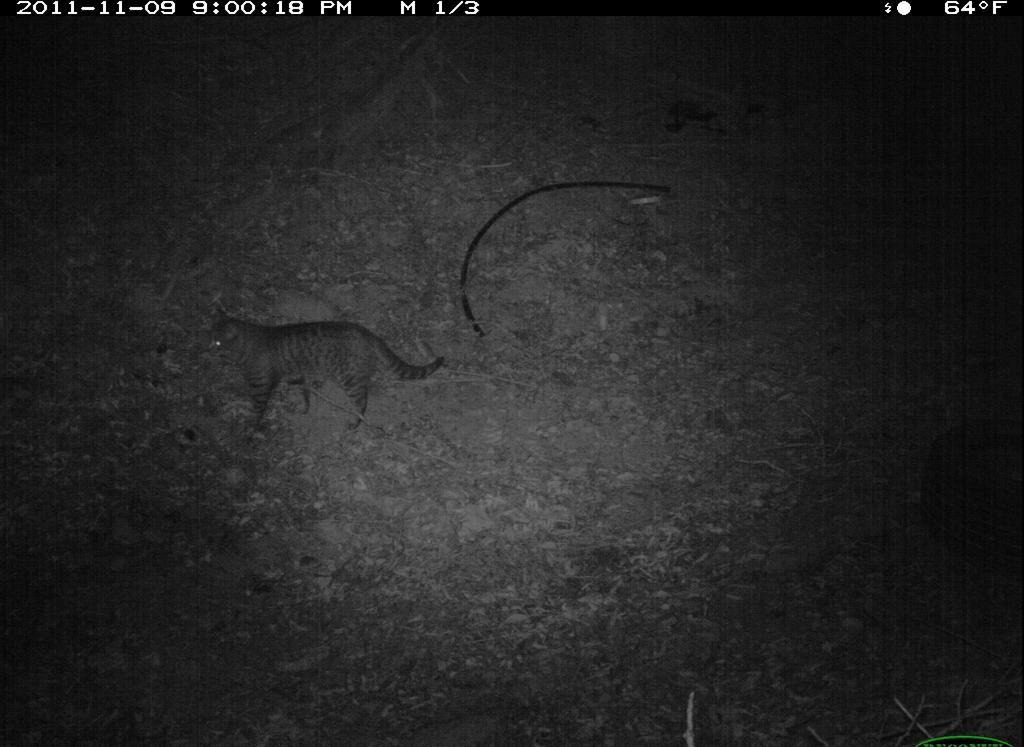cat: (204, 305, 450, 441)
